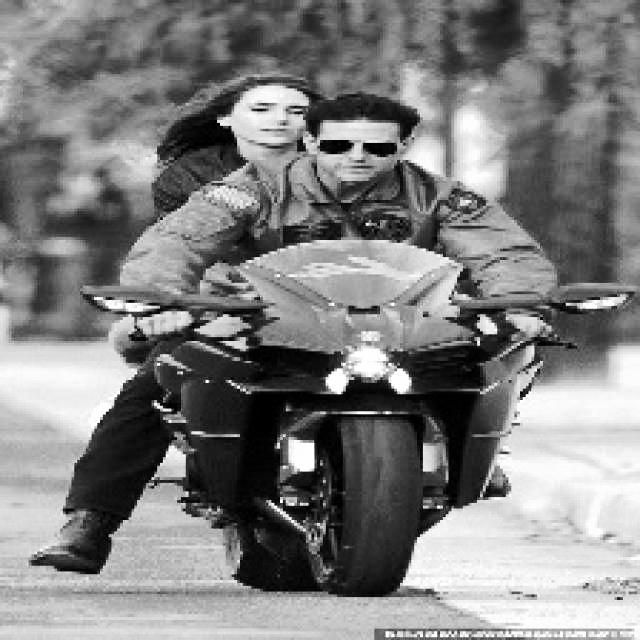Bike: (131, 251, 517, 603)
